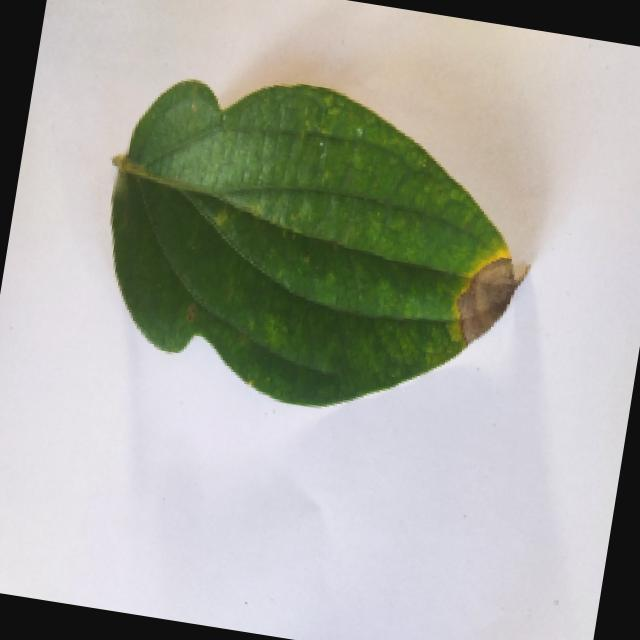footrot: (76, 56, 546, 441)
